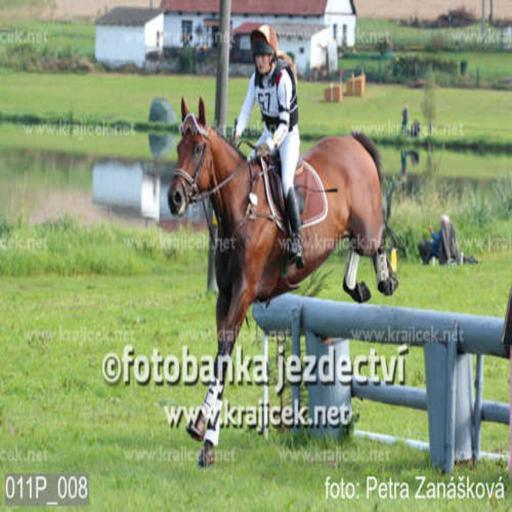Horse: (167, 92, 400, 468)
